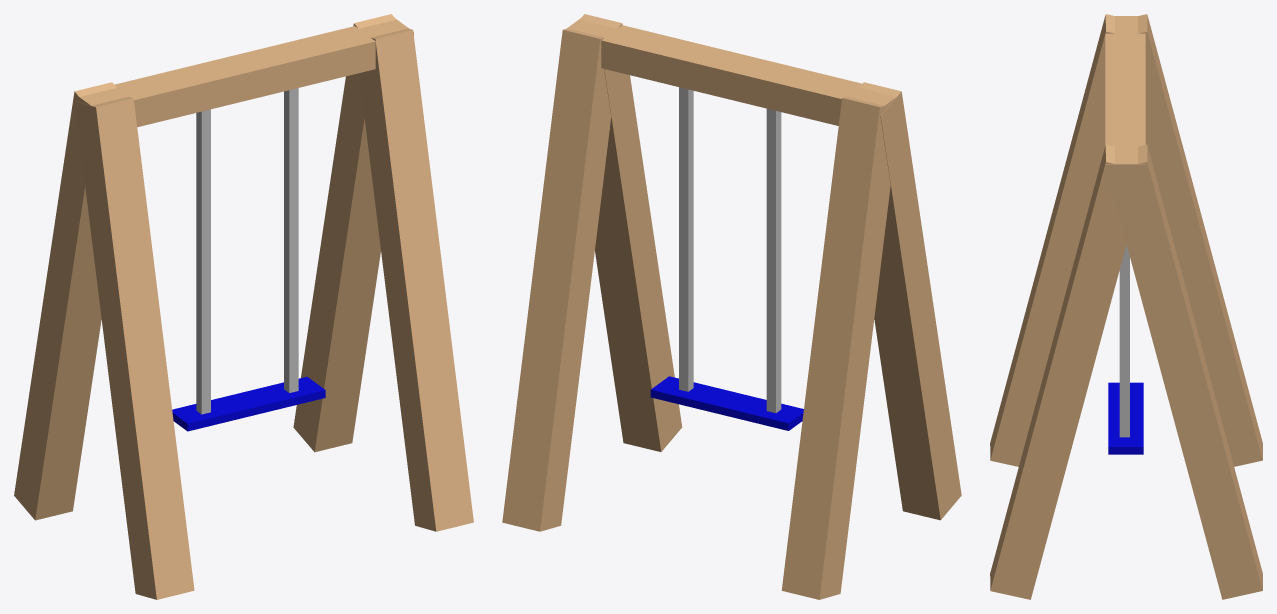
The model's file is columpio.fbx.
3 views of the same model, side by side, from view 1: azimuth 30°, elevation 25°; view 2: azimuth 150°, elevation 25°; view 3: azimuth 270°, elevation 25° (orthographic). The views are drawn at different scales.
Parts seen in each view (by area): view 1: Cube.003, Cube.001, Cube.002, Cube, Cube.004, Cube.005, Cube.006, Cube.007; view 2: Cube, Cube.002, Cube.003, Cube.001, Cube.004, Cube.006, Cube.005, Cube.007; view 3: Cube, Cube.001, Cube.002, Cube.003, Cube.004, Cube.007, Cube.005.
Part boxes in pixels (<box>): Cube.003: <box>74,96,194,599</box>; Cube.001: <box>359,28,473,531</box>; Cube.002: <box>14,82,116,520</box>; Cube: <box>293,14,395,452</box>; Cube.004: <box>75,18,413,127</box>; Cube.005: <box>284,88,298,392</box>; Cube.006: <box>196,109,210,414</box>; Cube.007: <box>172,376,325,431</box>; Cube: <box>502,28,611,531</box>; Cube.002: <box>781,96,890,599</box>; Cube.003: <box>859,82,961,520</box>; Cube.001: <box>580,14,682,451</box>; Cube.004: <box>567,18,896,135</box>; Cube.006: <box>766,108,781,413</box>; Cube.005: <box>679,87,693,391</box>; Cube.007: <box>650,376,803,430</box>; Cube: <box>1112,144,1262,599</box>; Cube.001: <box>990,144,1126,599</box>; Cube.002: <box>1138,14,1262,466</box>; Cube.003: <box>990,14,1114,466</box>; Cube.004: <box>1105,16,1145,190</box>; Cube.007: <box>1108,382,1143,454</box>; Cube.005: <box>1119,245,1129,437</box>.
Size of the model in its own units: 461 by 634 by 358.
